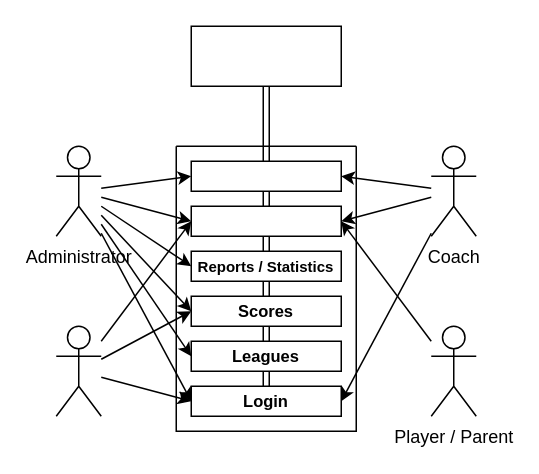
This 539x474 diagram has some shape labels left out. The box of each missing label's shape, as (x1, y1, x2, y2) in pixels:
Official: (55, 325, 101, 416)
Rosters: (190, 160, 341, 191)
Schedules: (190, 205, 341, 236)
«external» SLAM DATABASE: (190, 25, 341, 86)
